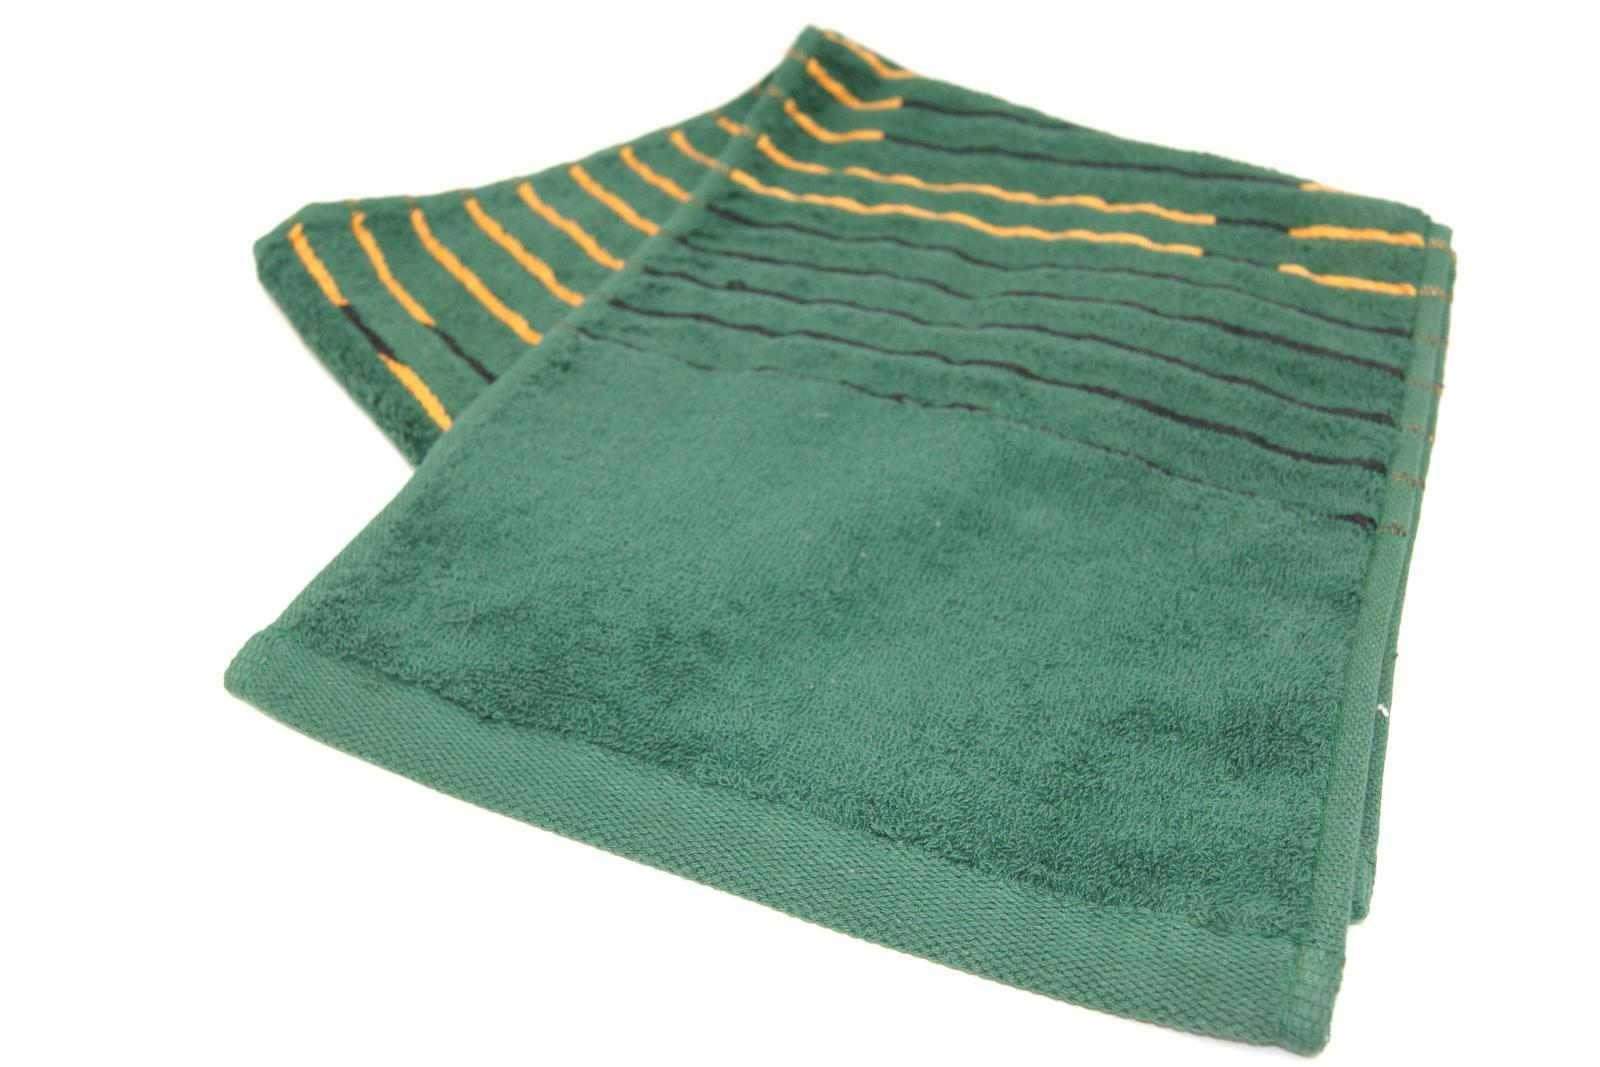towel: (205, 12, 1480, 1067)
